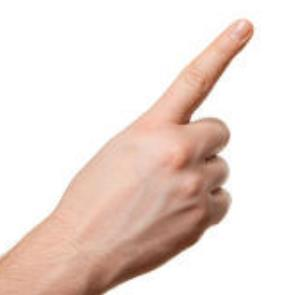up: (67, 12, 258, 285)
